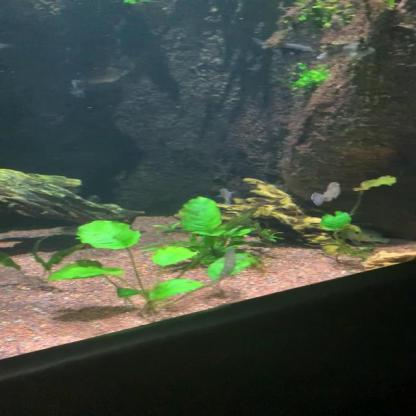fish: (62, 66, 130, 84), (249, 38, 318, 54), (341, 226, 390, 245), (312, 182, 347, 205), (216, 187, 236, 202)
